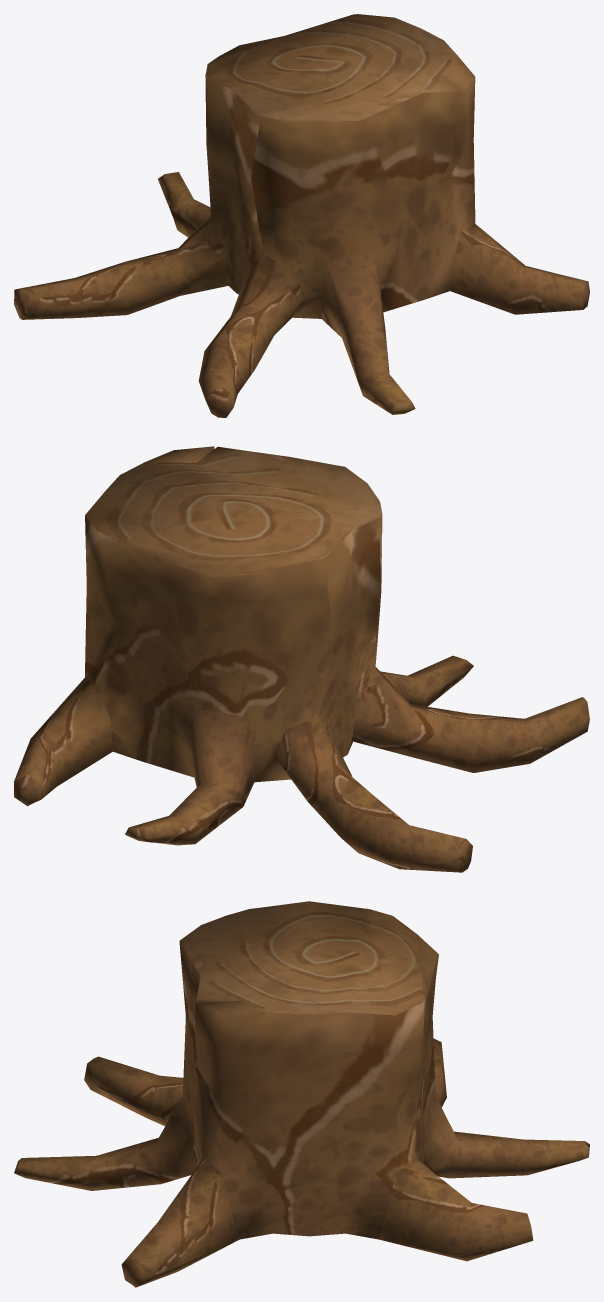
Rendered from tronco-raiz.fbx.
The picture shows the model from 3 angles, top to bottom: view 1: azimuth 30°, elevation 25°; view 2: azimuth 150°, elevation 25°; view 3: azimuth 270°, elevation 25°; orthographic projection. The views are drawn at different scales.
Parts seen in each view (by area): view 1: tronco-raiz; view 2: tronco-raiz; view 3: tronco-raiz.
Part boxes in pixels (x1=…): tronco-raiz: x1=14, y1=14, x2=589, y2=417; tronco-raiz: x1=14, y1=446, x2=589, y2=872; tronco-raiz: x1=14, y1=901, x2=589, y2=1287.
Size of the model in its own units: 133 by 71.71 by 141.
